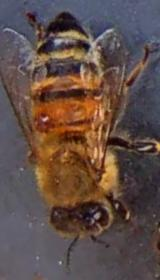varroa_mite: (24, 107, 64, 140)
